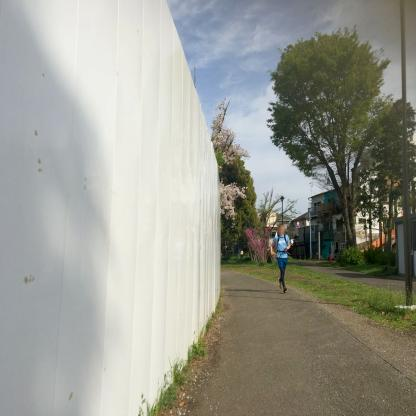Someiyoshino: (202, 89, 252, 221)
